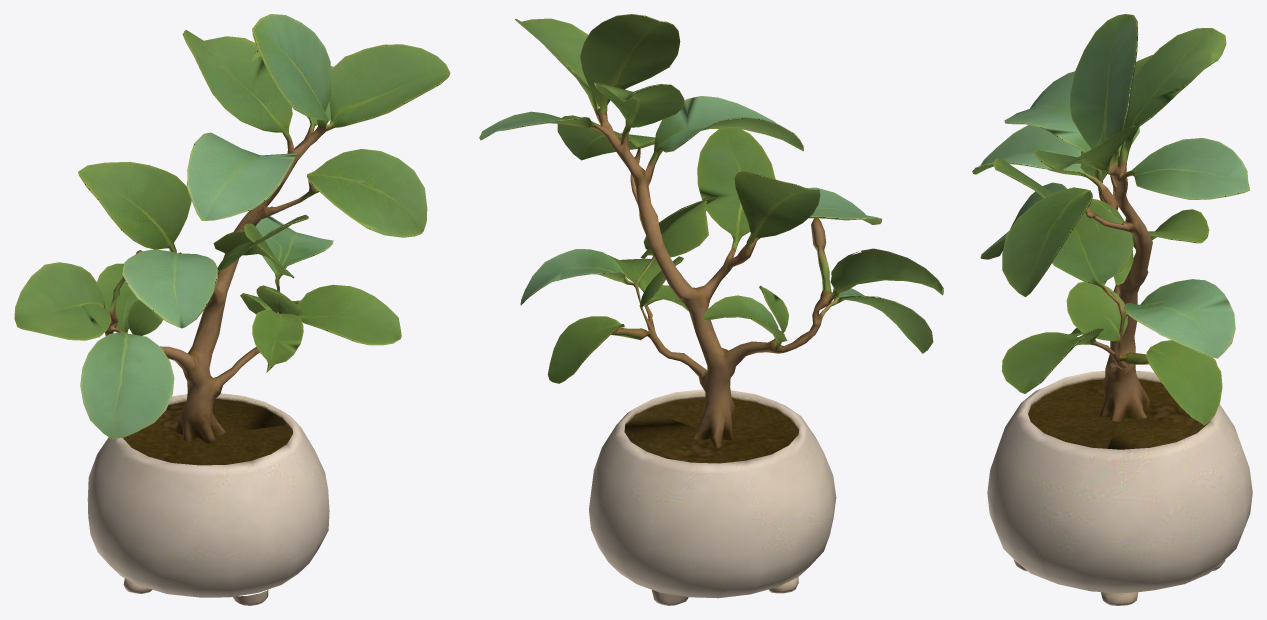
Rendered from ceramic-plant-v2.glb.
The picture shows the model from 3 angles, left to right: view 1: azimuth 30°, elevation 25°; view 2: azimuth 150°, elevation 25°; view 3: azimuth 270°, elevation 25°; orthographic projection. The views are drawn at different scales.
Parts seen in each view (by area): view 1: geometry_0; view 2: geometry_0; view 3: geometry_0.
Part boxes in pixels (x1,y1,x2,y2): geometry_0: (14, 14, 450, 605); geometry_0: (479, 14, 943, 605); geometry_0: (972, 14, 1252, 605).
Bounding box in the file's own units: 0.7915 × 0.9531 × 0.416.
Materials: 1 (1 with a texture image).
